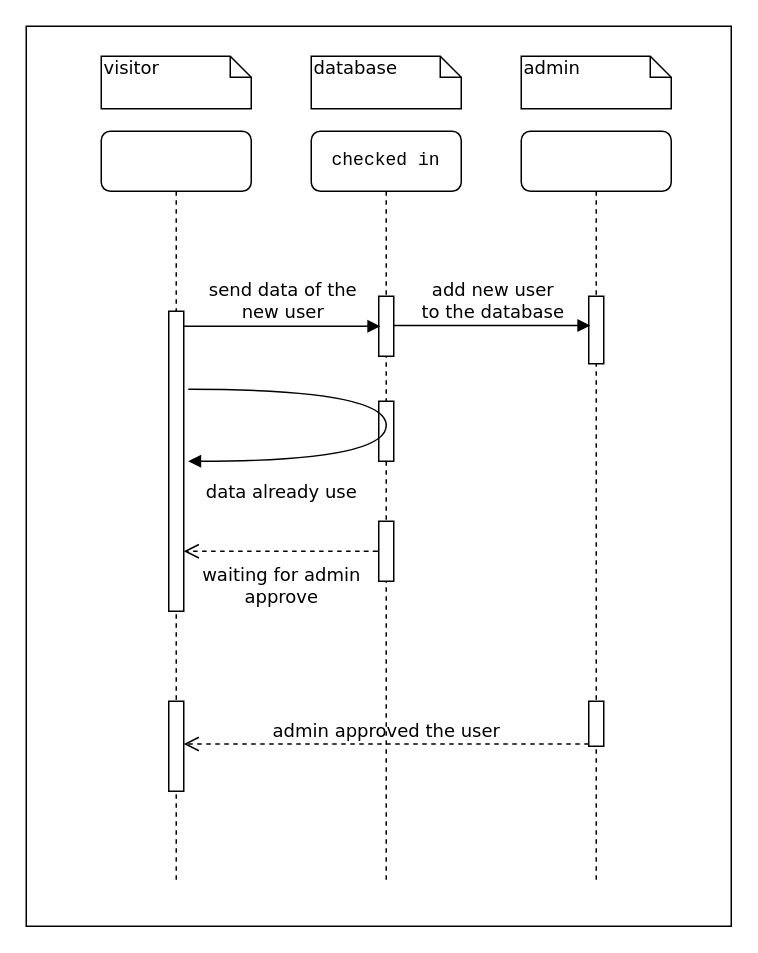
Some shapes in this 758 by 953 pixel diagram are drawn without their labels. The box of each missing label's shape, as (x1, y1, x2, y2) in pixels:
approve: (520, 130, 671, 881)
register: (100, 130, 251, 881)
